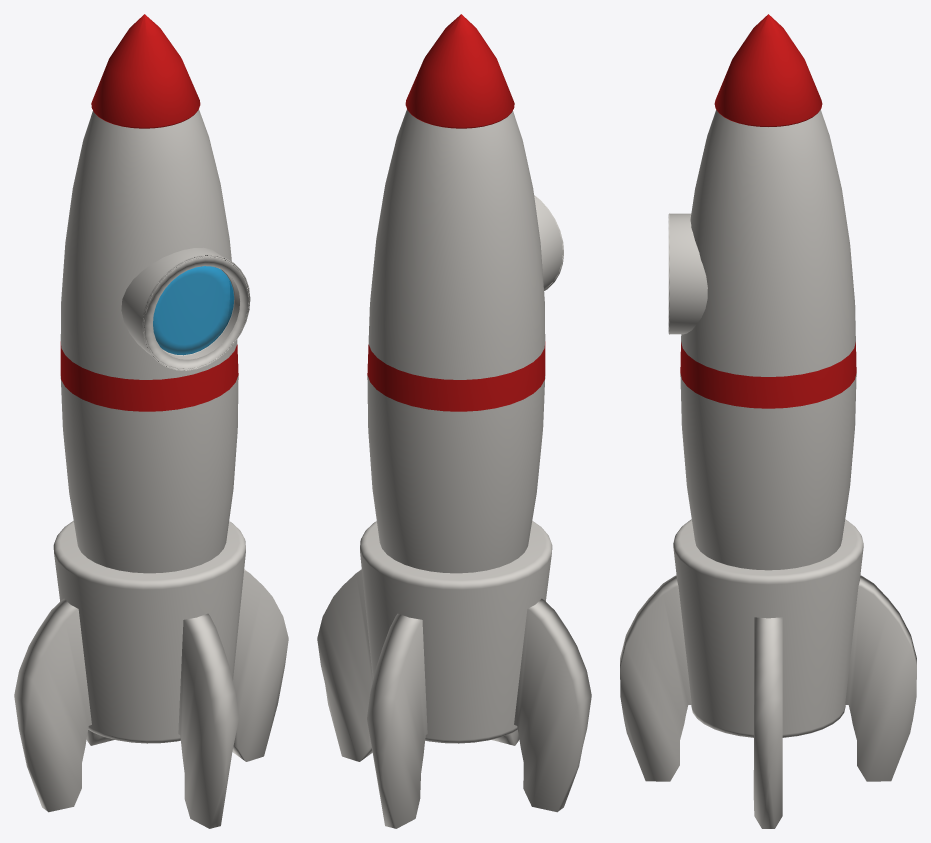
The model's file is rocket.glb.
3 renders of one model, left to right at view 1: azimuth 30°, elevation 25°; view 2: azimuth 150°, elevation 25°; view 3: azimuth 270°, elevation 25°, orthographic.
Visible parts, largest first — view 1: Sphere, Cylinder.001, Cylinder, Cube.002, Cube.003, Cone, Cube; view 2: Sphere, Cylinder.001, Cube.002, Cube.001, Cone, Cube, Cylinder; view 3: Sphere, Cylinder.001, Cube.001, Cube.003, Cone, Cube, Cylinder.
Part boxes in pixels (x1,y1,x2,y2): Sphere: [60, 109, 238, 573]; Cylinder.001: [53, 521, 245, 743]; Cylinder: [121, 247, 250, 370]; Cube.002: [14, 598, 91, 812]; Cube.003: [178, 613, 238, 828]; Cone: [91, 14, 200, 128]; Cube: [232, 569, 288, 761]; Sphere: [367, 109, 545, 573]; Cylinder.001: [360, 521, 552, 743]; Cube.002: [514, 598, 591, 812]; Cube.001: [367, 613, 427, 828]; Cone: [405, 14, 514, 128]; Cube: [317, 569, 372, 761]; Cylinder: [534, 195, 563, 290]; Sphere: [680, 110, 856, 570]; Cylinder.001: [673, 519, 863, 737]; Cube.001: [845, 575, 916, 781]; Cube.003: [620, 575, 691, 781]; Cone: [714, 14, 822, 126]; Cube: [753, 617, 782, 828]; Cylinder: [668, 213, 707, 334].
Bounding box in the file's own units: 1.77 × 5 × 1.76.
